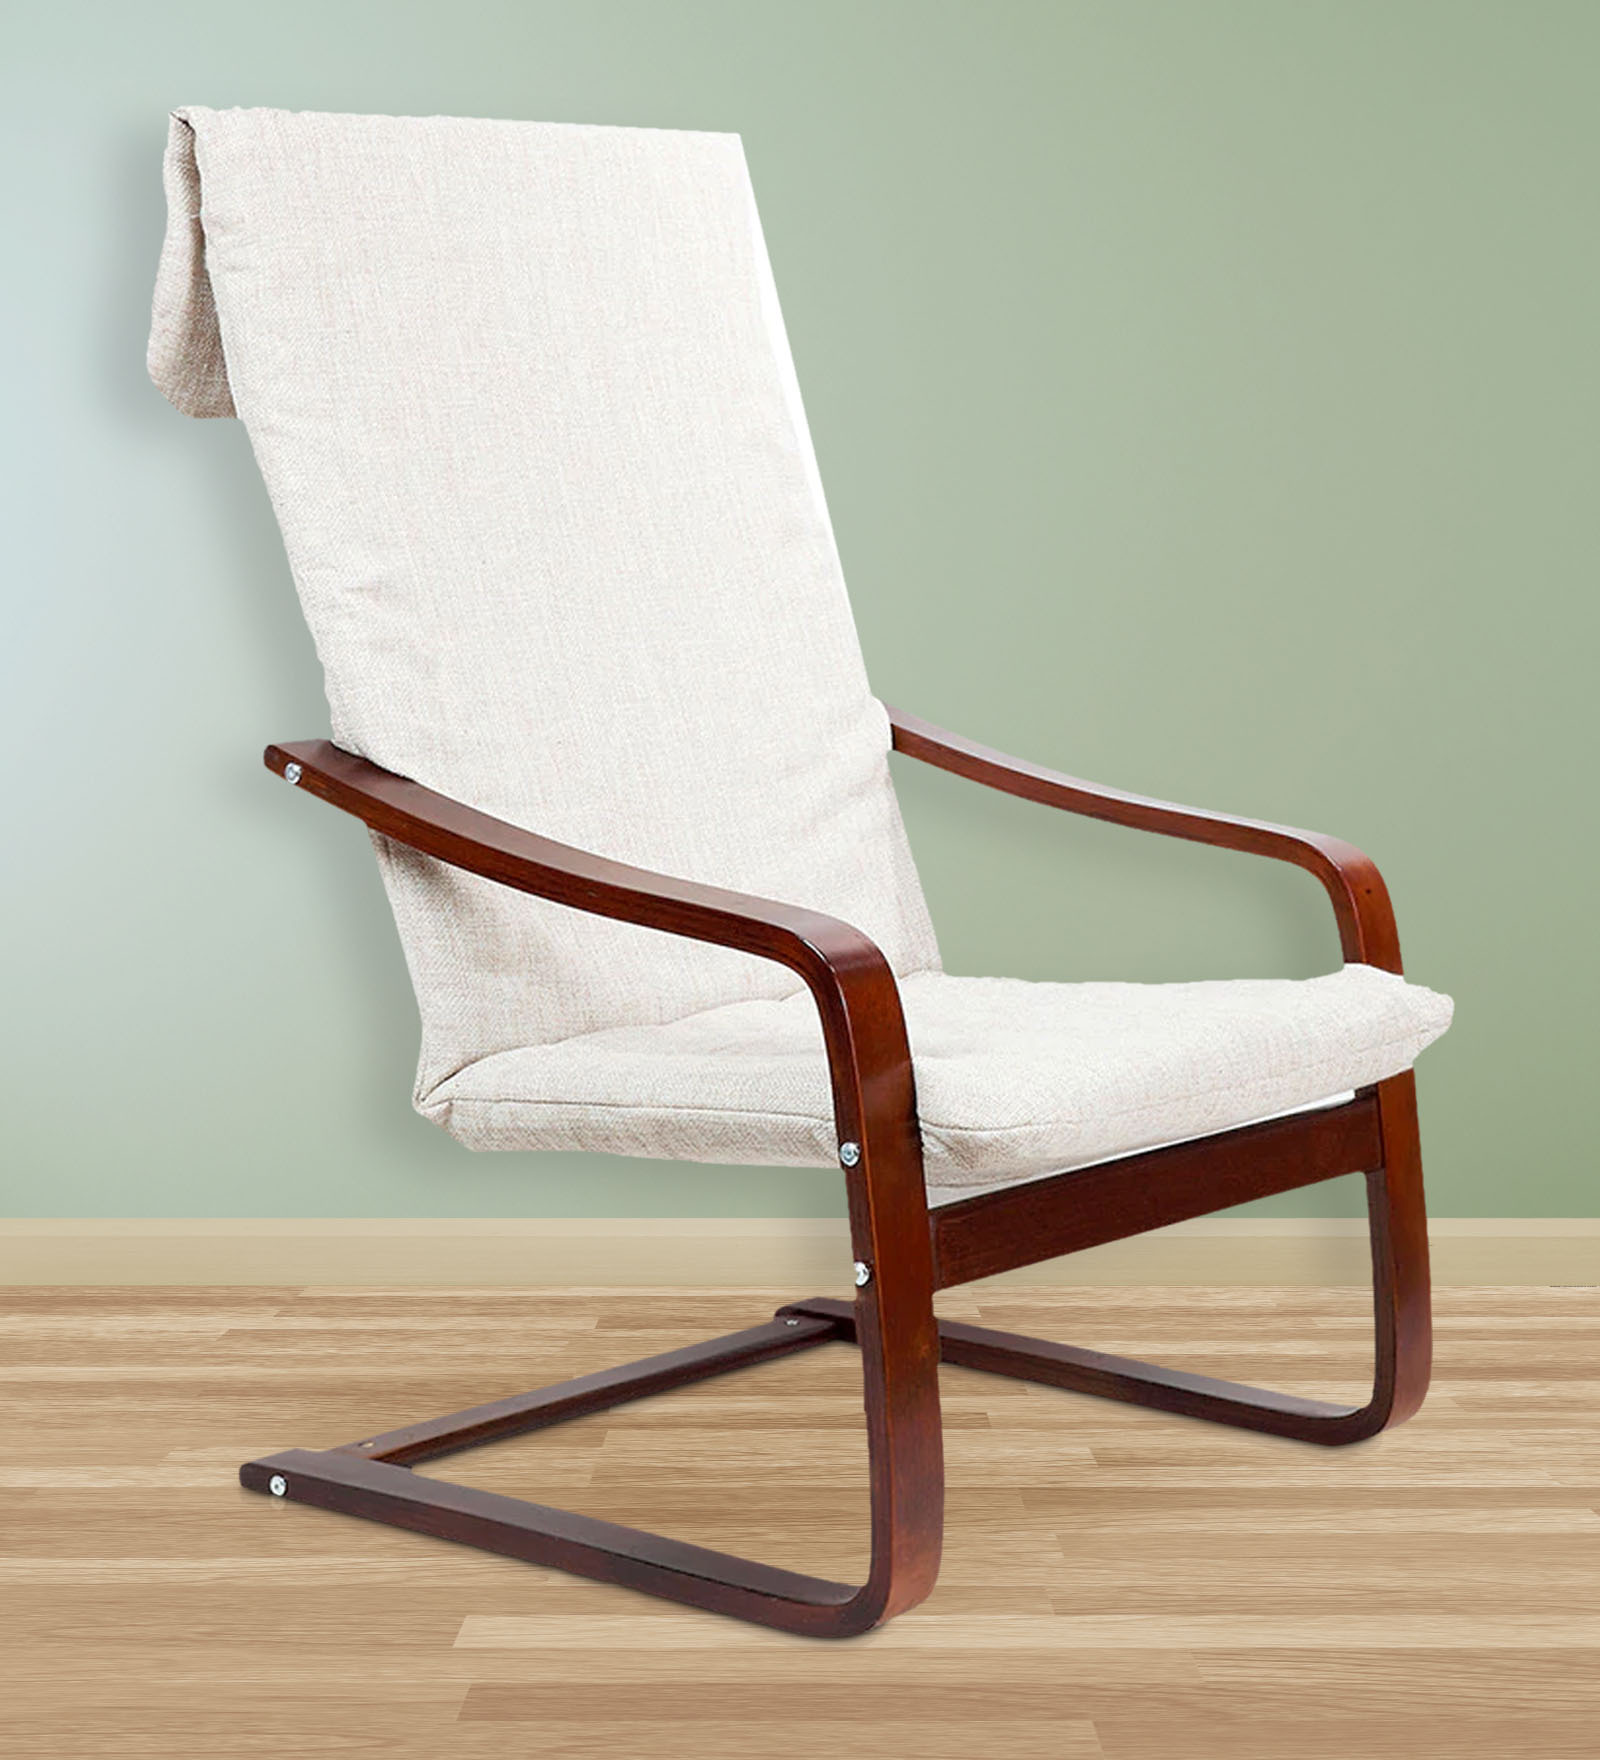Nero Relaxing Arm Chair in Beige Colour by HomeTown: (147, 94, 1467, 1634)
